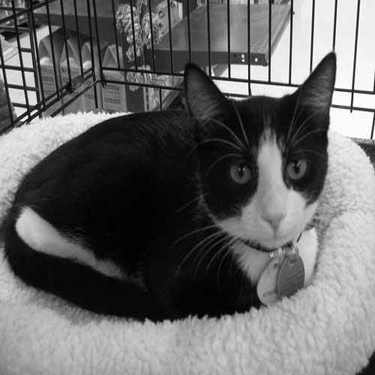cat: (5, 50, 337, 321)
